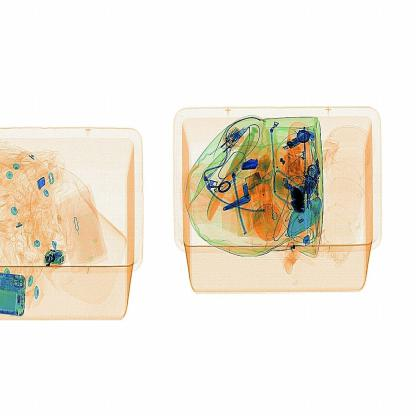knife: (236, 150, 260, 176)
